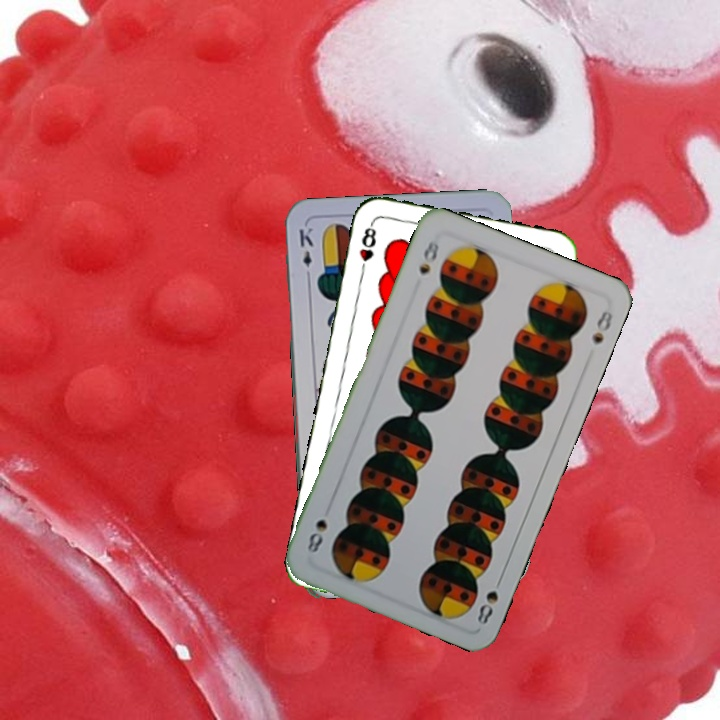EK: (295, 223, 316, 283)
H8: (355, 219, 379, 278)
S8: (473, 571, 506, 628), (415, 232, 442, 277)
